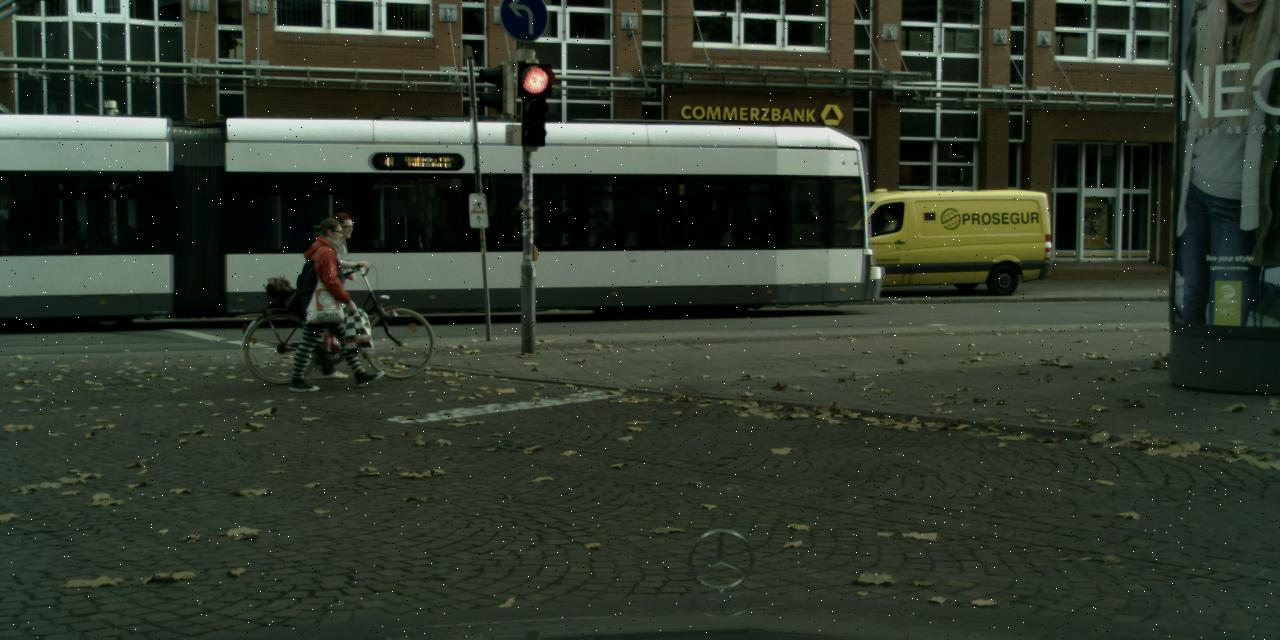ped: (299, 218, 368, 388), (306, 212, 368, 366)
